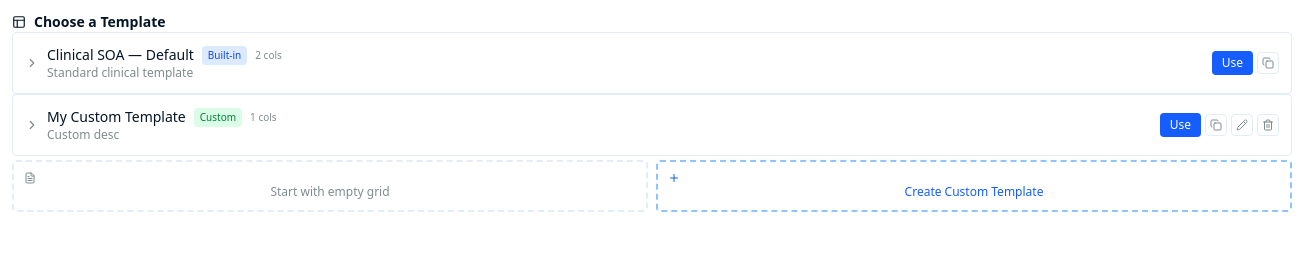
it: TemplateSelector › expands column preview on click
What coordinates should you click on to do the following:
click the button with test id "expand-tpl-clinical-default"
I would click on:
 (32, 63)
Its box is [25,56,39,70].
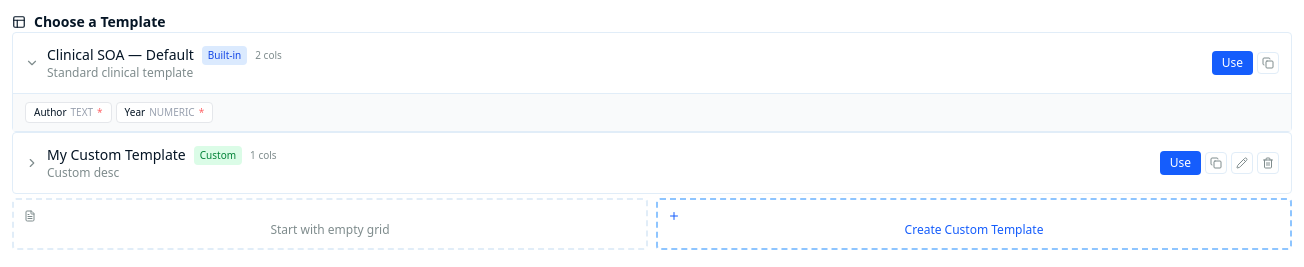
Expected: the element with test id "columns-preview-tpl-clinical-default" is shown, [13,93,1291,131]
